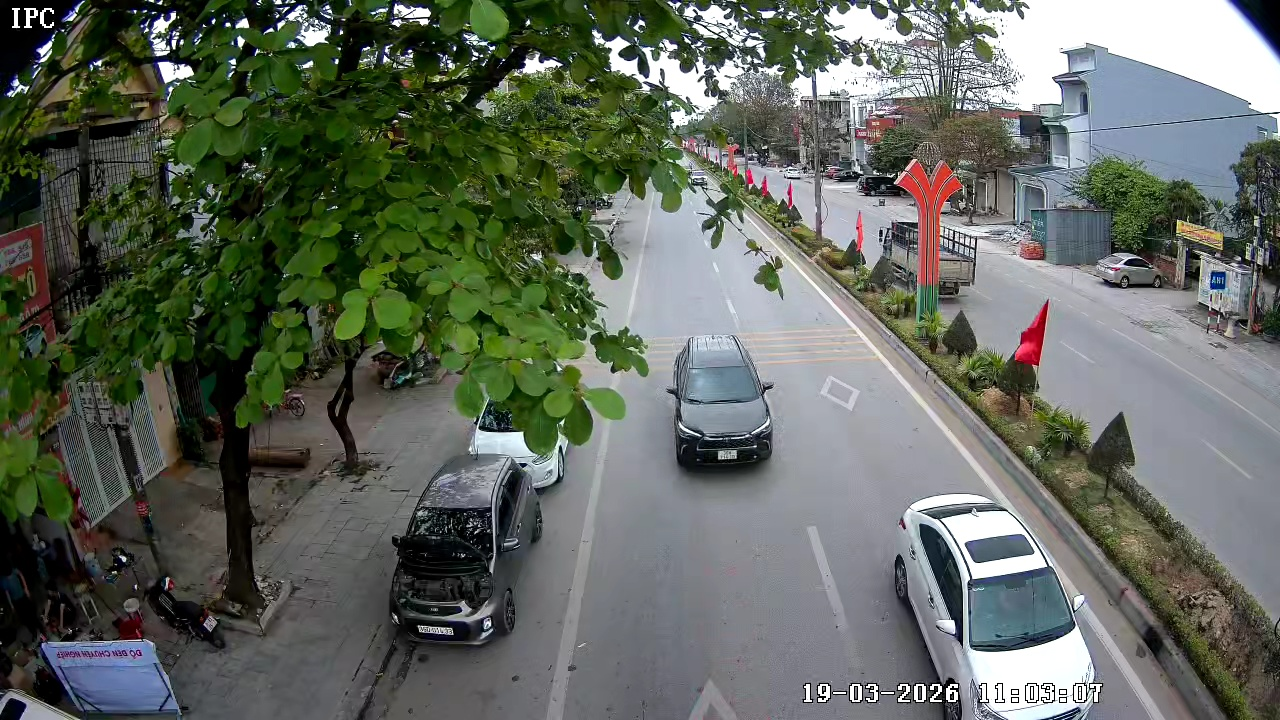car: (890, 491, 1104, 719), (388, 453, 545, 645), (665, 332, 775, 469), (1093, 250, 1164, 289)
